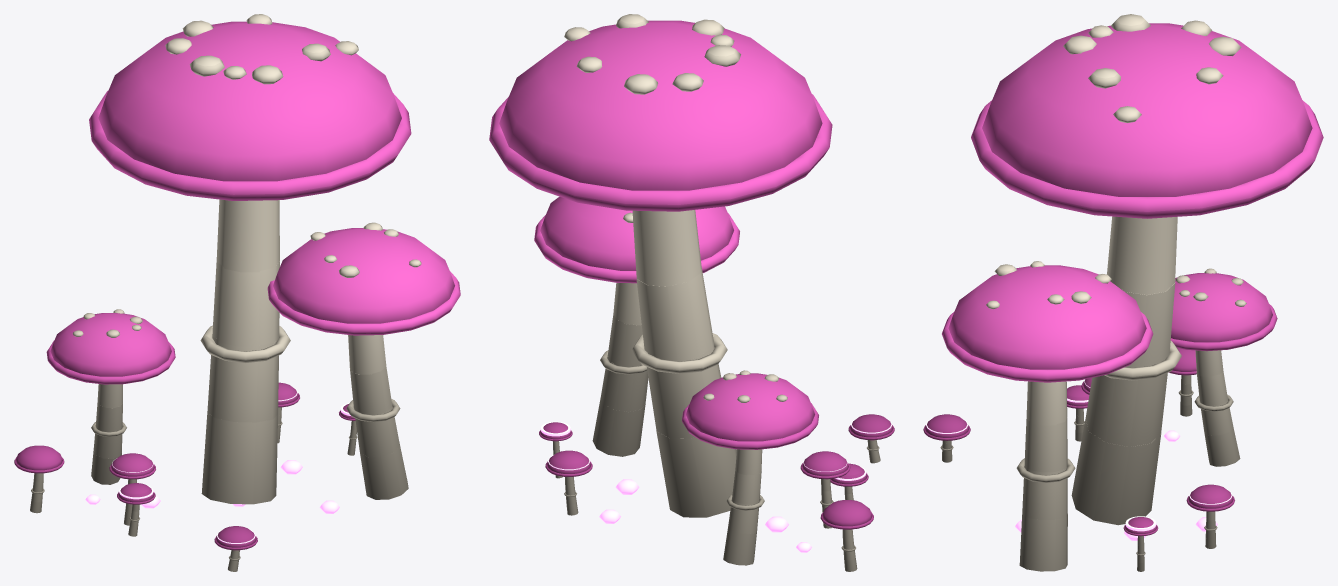
File: mushrooms_pink.glb
The picture shows the model from 3 angles, left to right: view 1: azimuth 30°, elevation 25°; view 2: azimuth 150°, elevation 25°; view 3: azimuth 270°, elevation 25°; orthographic projection. The views are drawn at different scales.
Parts seen in each view (by area): view 1: t0_mushroom_pink, t0_mushroom_stem, t0_glow_pink; view 2: t0_mushroom_pink, t0_mushroom_stem, t0_glow_pink; view 3: t0_mushroom_pink, t0_mushroom_stem, t0_glow_pink.
Boxes of the visible parts, box(x1,y1,x2,y2) form: t0_mushroom_pink: box(14, 21, 460, 550); t0_mushroom_stem: box(30, 14, 421, 571); t0_glow_pink: box(85, 387, 350, 543); t0_mushroom_pink: box(489, 20, 894, 529); t0_mushroom_stem: box(552, 14, 880, 571); t0_glow_pink: box(540, 418, 892, 552); t0_mushroom_pink: box(923, 23, 1323, 536); t0_mushroom_stem: box(940, 14, 1246, 571); t0_glow_pink: box(926, 380, 1232, 540).
Bounding box in the file's own units: 2.04 × 2.34 × 1.77.
